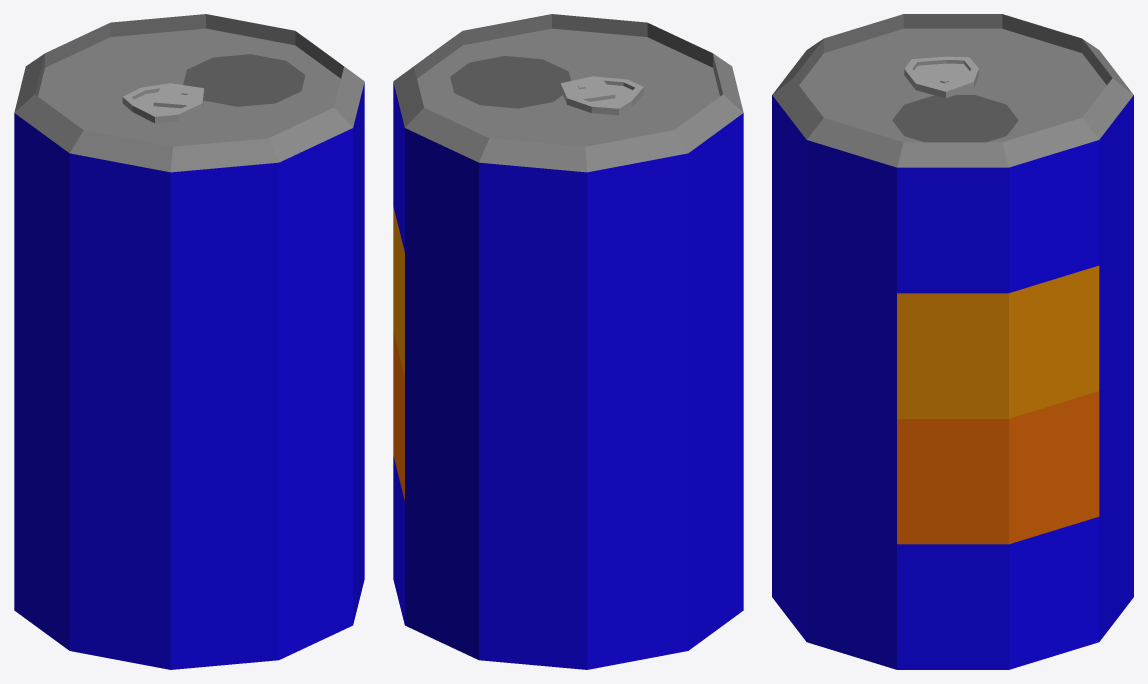
The model's file is fizzydt3blend.fbx.
3 views of the same model, side by side, from view 1: azimuth 30°, elevation 25°; view 2: azimuth 150°, elevation 25°; view 3: azimuth 270°, elevation 25° (orthographic).
Visible parts, largest first — view 1: Cylinder; view 2: Cylinder; view 3: Cylinder.
Part boxes in pixels (bbox=[...]): Cylinder: bbox=[14, 14, 364, 669]; Cylinder: bbox=[393, 14, 743, 669]; Cylinder: bbox=[772, 14, 1133, 669].
Size of the model in its own units: 190 by 317 by 200.
